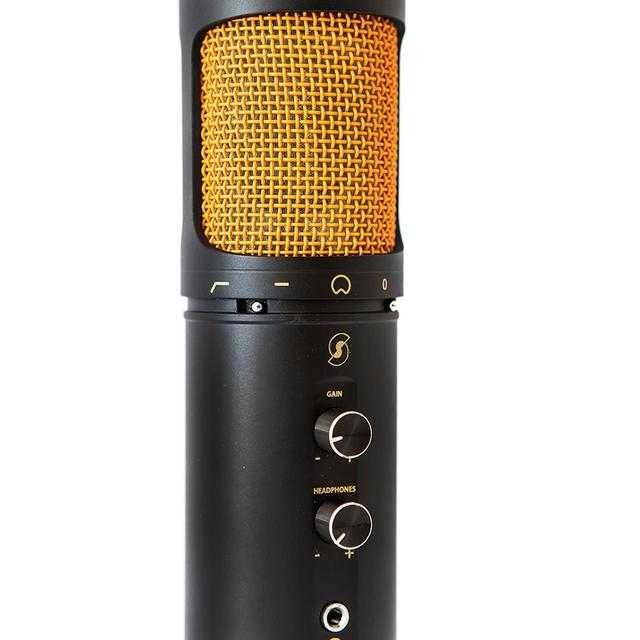microphone: (143, 12, 423, 635)
